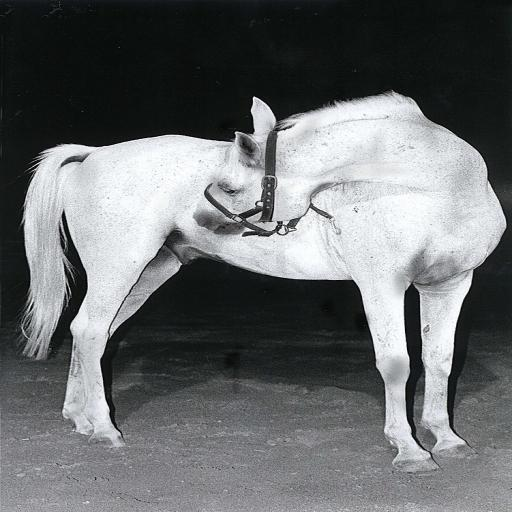horse: (18, 89, 508, 478)
